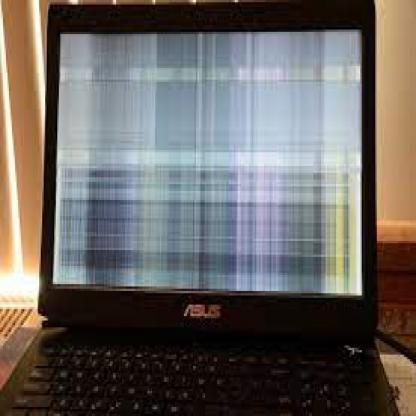lines: (59, 34, 362, 296)
